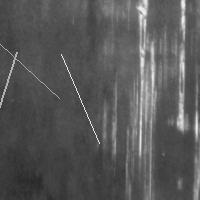scratches: (127, 1, 158, 182), (56, 49, 104, 148), (0, 39, 64, 103), (168, 1, 190, 134), (0, 47, 21, 133)
